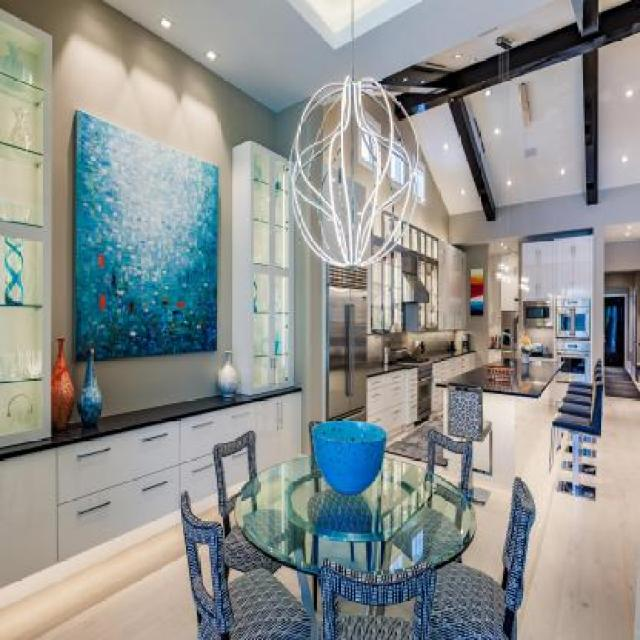Floor: (516, 396, 640, 640), (462, 476, 512, 586), (434, 465, 460, 489)
